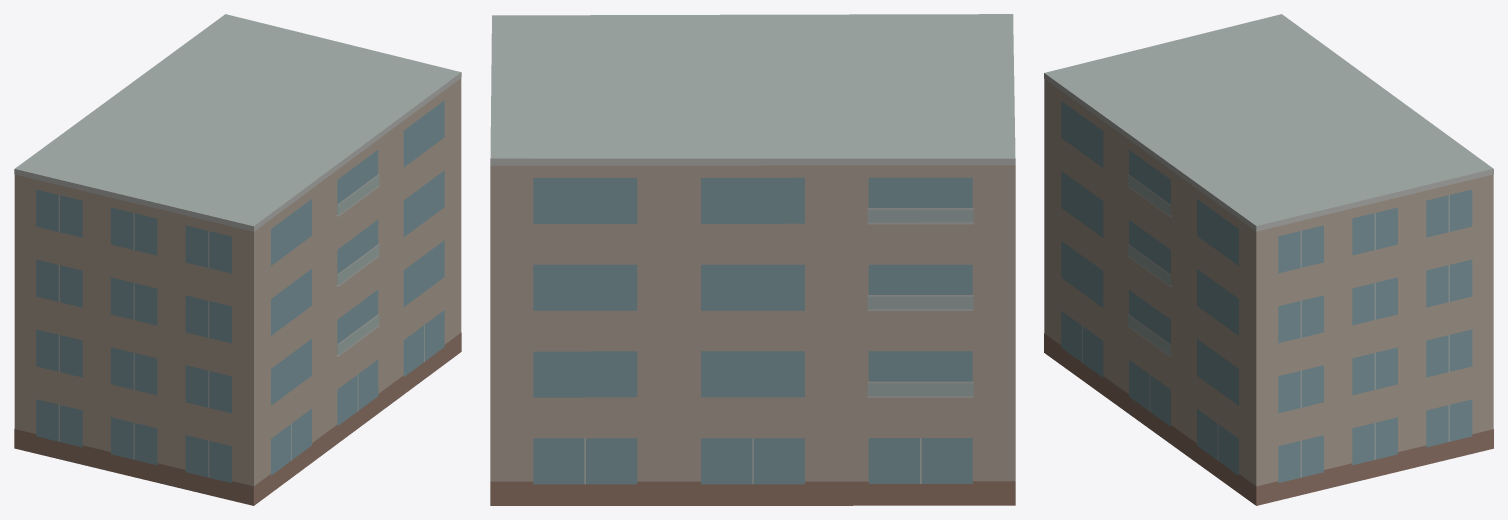
File: survey-upis-32982049.glb
3 renders of one model, left to right at view 1: azimuth 30°, elevation 25°; view 2: azimuth 150°, elevation 25°; view 3: azimuth 270°, elevation 25°, orthographic. The views are drawn at different scales.
Visible parts, largest first — view 1: survey-upis-32982049.tmp; view 2: survey-upis-32982049.tmp; view 3: survey-upis-32982049.tmp.
Part boxes in pixels (x1,y1,x2,y2): survey-upis-32982049.tmp: (14, 14, 461, 505); survey-upis-32982049.tmp: (490, 14, 1015, 505); survey-upis-32982049.tmp: (1044, 14, 1493, 505).
Size of the model in its own units: 20.01 by 12.3 by 17.92.
